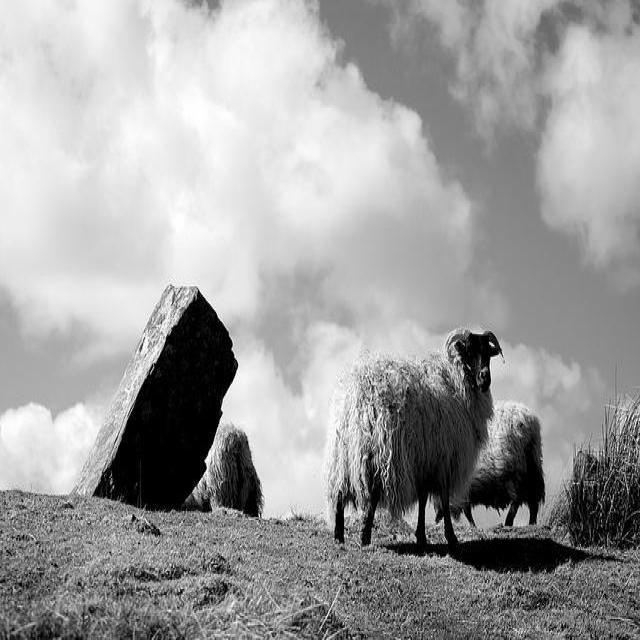Sheep: (320, 328, 506, 550), (465, 405, 545, 532)
